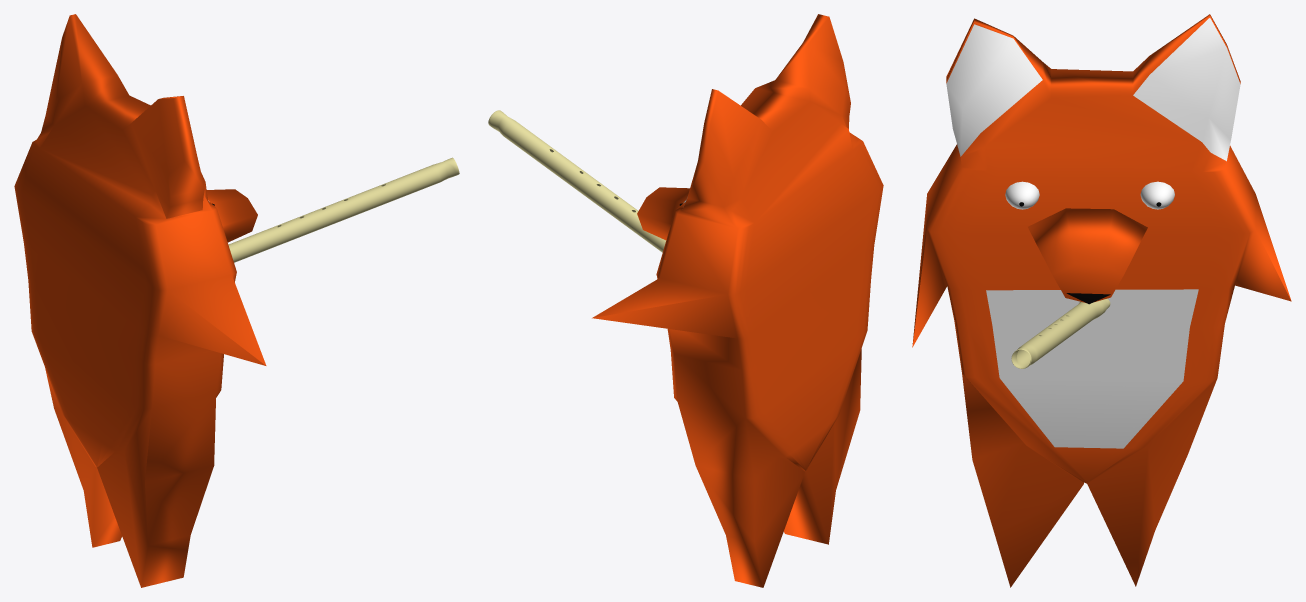
The model's file is animation_fox.fbx.
The picture shows the model from 3 angles, left to right: view 1: azimuth 30°, elevation 25°; view 2: azimuth 150°, elevation 25°; view 3: azimuth 270°, elevation 25°; orthographic projection. The views are drawn at different scales.
Visible parts, largest first — view 1: Cube, Cylinder.004; view 2: Cube, Cylinder.004; view 3: Cube, Cylinder.004.
Part boxes in pixels (x1,y1,x2,y2): Cube: (14, 14, 266, 587); Cylinder.004: (228, 157, 459, 262); Cube: (592, 14, 883, 587); Cylinder.004: (488, 110, 666, 252); Cube: (912, 14, 1291, 587); Cylinder.004: (1011, 299, 1110, 368).
Bounding box in the file's own units: 267 × 378 × 230.
